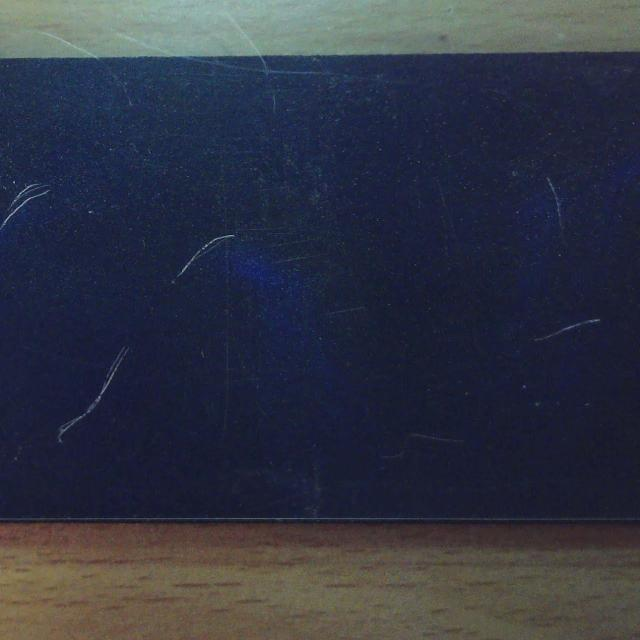defect: (60, 344, 131, 444), (185, 56, 331, 75), (178, 230, 235, 278), (0, 180, 52, 230), (382, 430, 468, 458), (537, 317, 603, 343), (547, 178, 566, 229)
